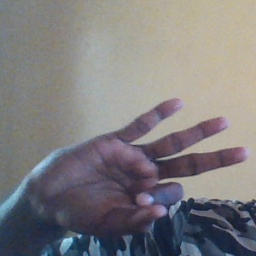K: (29, 98, 249, 236)
